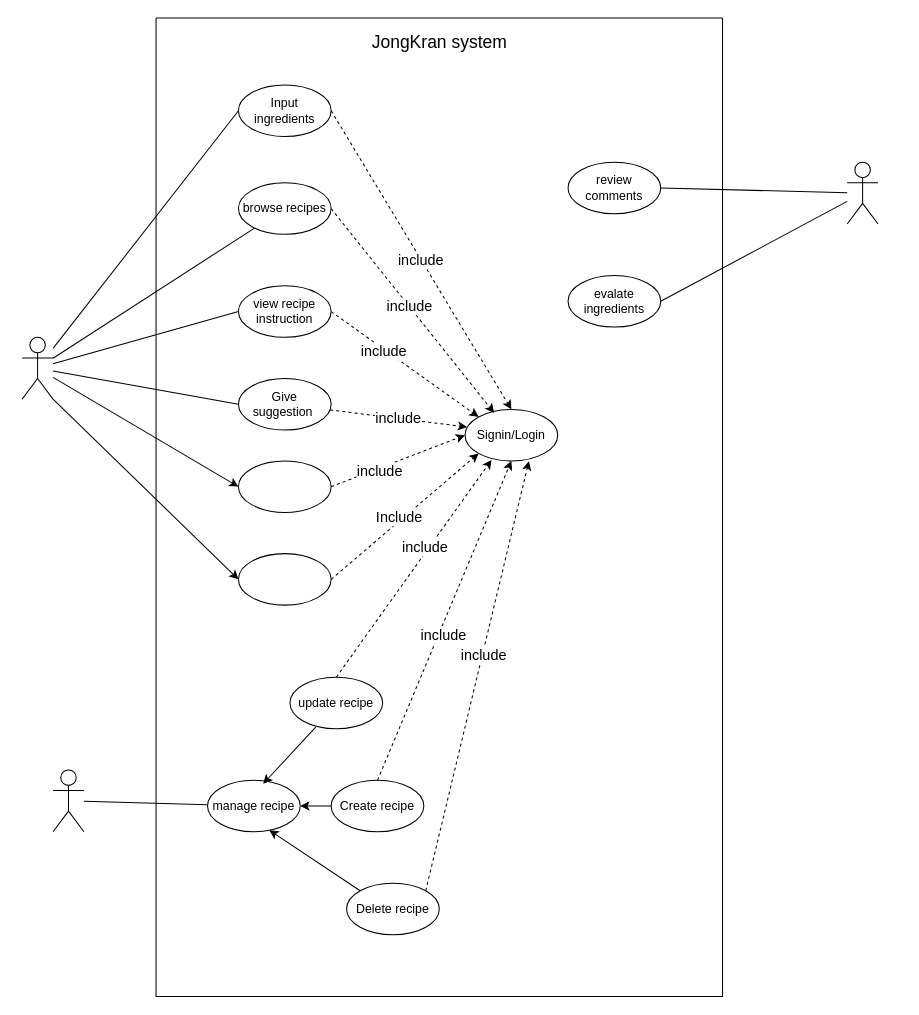
Some shapes in this 919 by 1015 pixel diagram are drawn without their labels. Here are the shapes that lost their labels. From the top down, the centre of each, then its label:
pixel 862 192: Data analyzer
pixel 37 367: Cooker
pixel 284 486: Add to favorite
pixel 284 579: View history
pixel 68 800: admin
